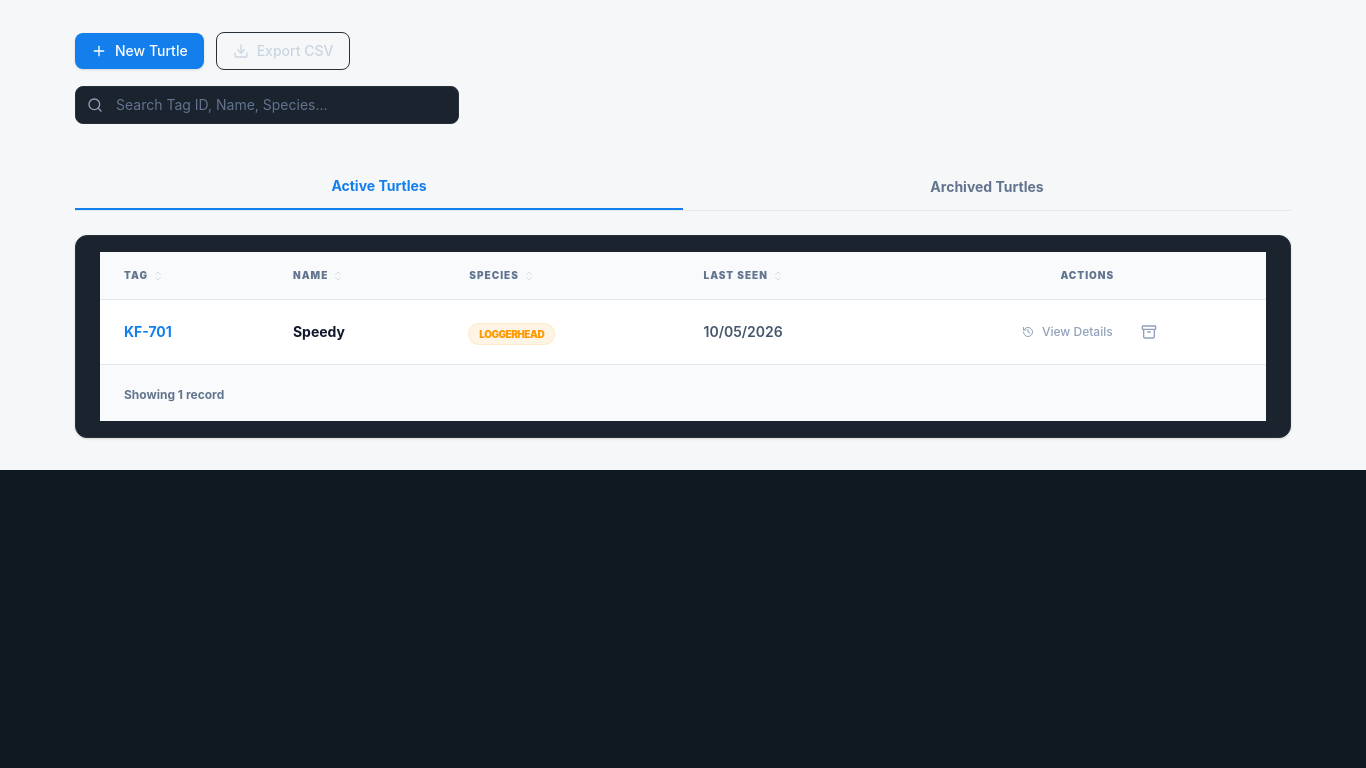
Scenario: Records (turtle) Archive permission and confirmation › shows an on-screen error banner if the archive request fails
Click the button titled "Archive this turtle — its history is kept" at (1149, 332), box [1133,316,1165,348]
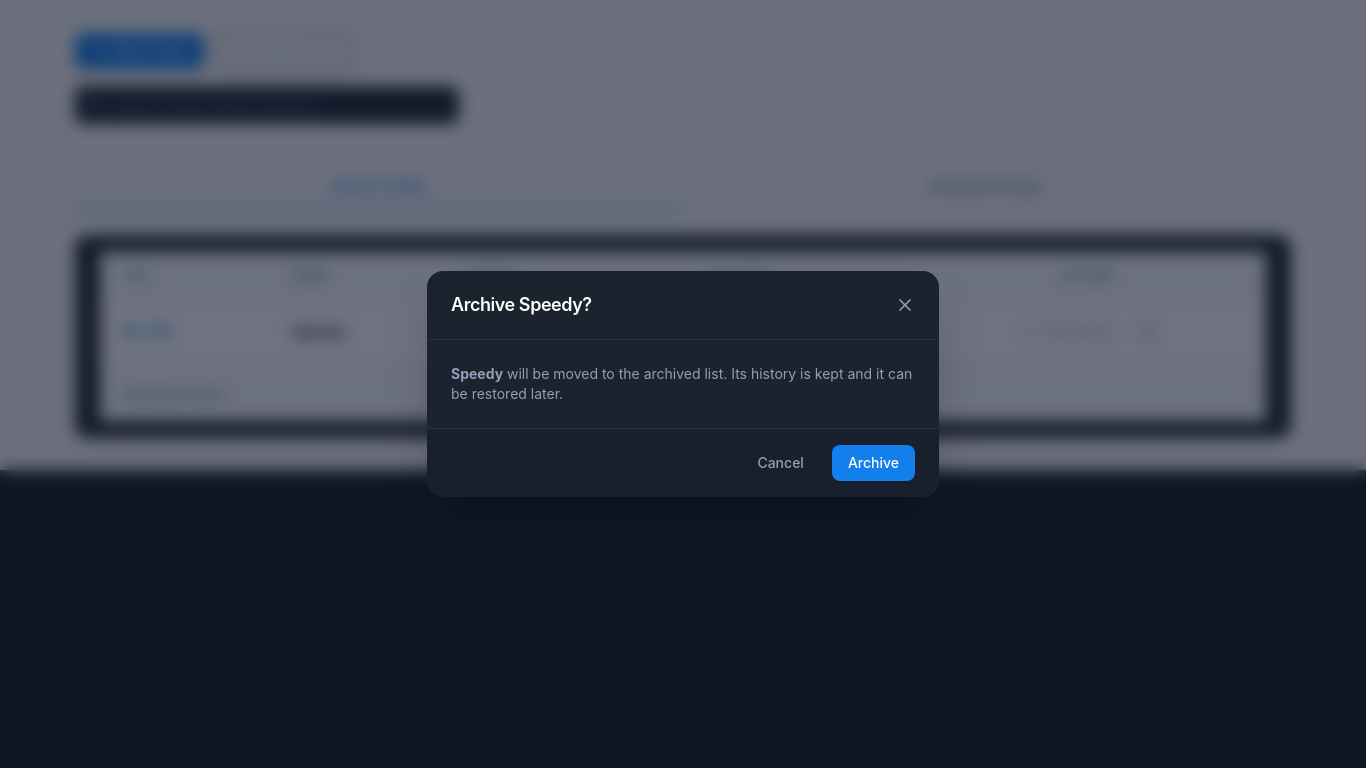
Check: the heading "Archive Speedy?" is shown, box [451,291,592,319]
Click the button "Archive" at (873, 463), box [832,445,915,481]
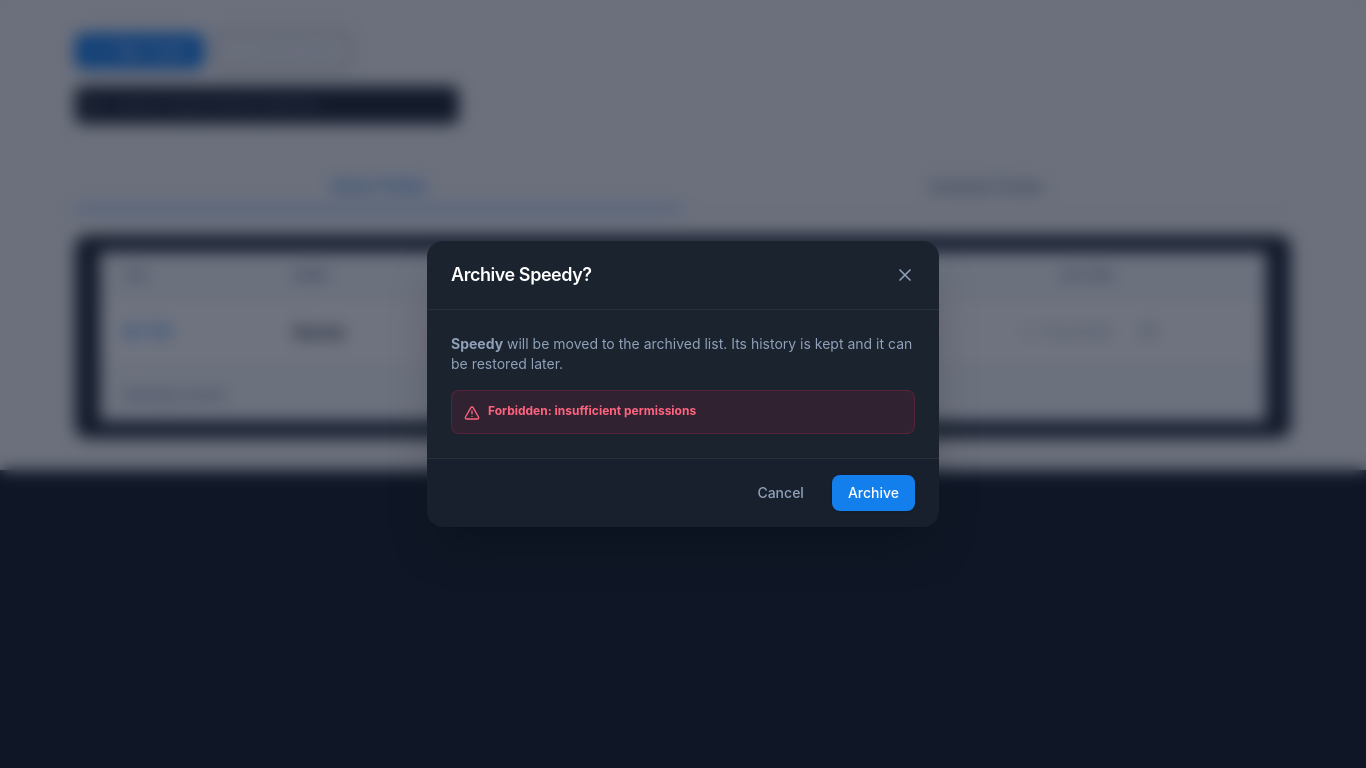
Check: the text "Forbidden: insufficient permissions" is shown, box [488,403,696,419]
